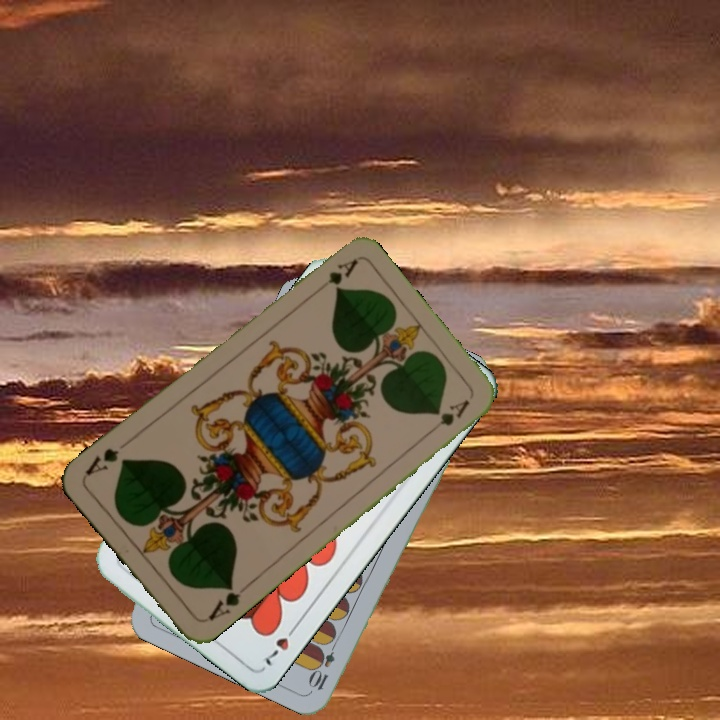E10: (306, 635, 340, 693)
GA: (309, 255, 360, 298), (204, 579, 243, 623)
H7: (258, 620, 301, 669)
